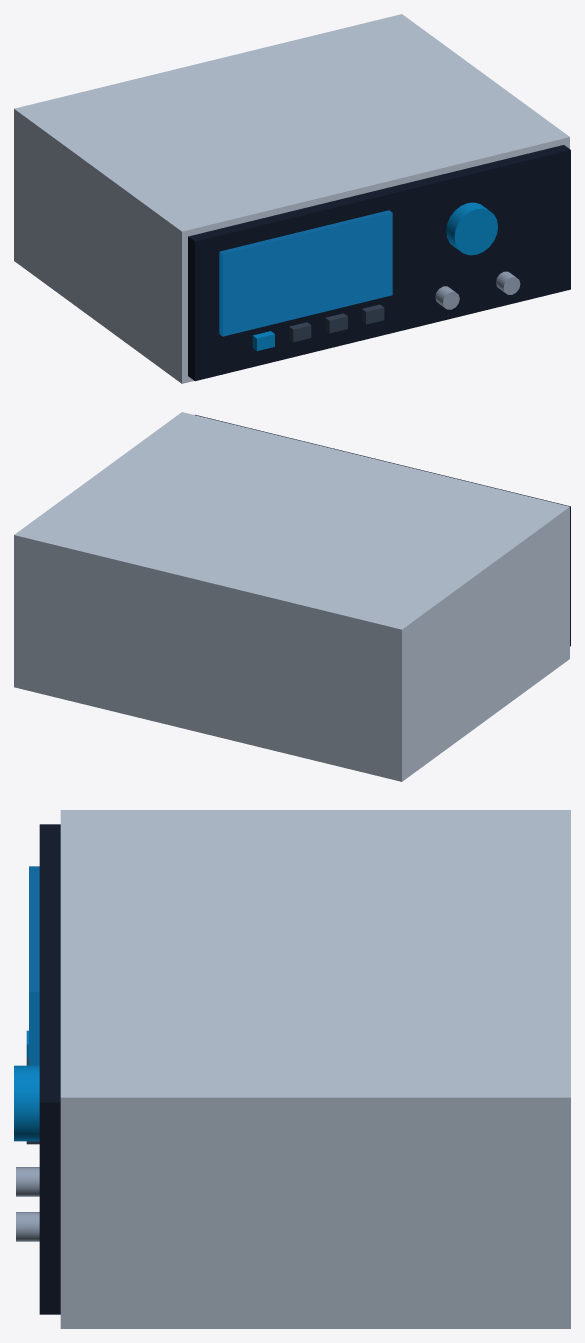
File: function_generator.glb
3 renders of one model, top to bottom at view 1: azimuth 30°, elevation 25°; view 2: azimuth 150°, elevation 25°; view 3: azimuth 270°, elevation 25°, orthographic. The views are drawn at different scales.
Visible parts, largest first — view 1: Rigol_Function_Generator, FunctionGen_LCD_Screen, Dial_Frequency; view 2: Rigol_Function_Generator; view 3: Rigol_Function_Generator, FunctionGen_LCD_Screen, Dial_Frequency, BNC_Main_Output, BNC_Sync_Output.
Boxes of the visible parts, left/top/right/bottom form: Rigol_Function_Generator: left=14, top=14, right=570, bottom=383; FunctionGen_LCD_Screen: left=219, top=210, right=392, bottom=336; Dial_Frequency: left=446, top=202, right=497, bottom=255; Rigol_Function_Generator: left=14, top=412, right=570, bottom=781; Rigol_Function_Generator: left=39, top=810, right=570, bottom=1328; FunctionGen_LCD_Screen: left=29, top=866, right=39, bottom=1065; Dial_Frequency: left=14, top=1065, right=39, bottom=1141; BNC_Main_Output: left=16, top=1167, right=39, bottom=1196; BNC_Sync_Output: left=16, top=1212, right=39, bottom=1241.
Bounding box in the file's own units: 0.32 × 0.12 × 0.262.
